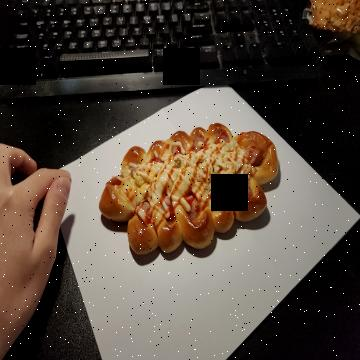pizza_bread: (97, 120, 280, 256)
